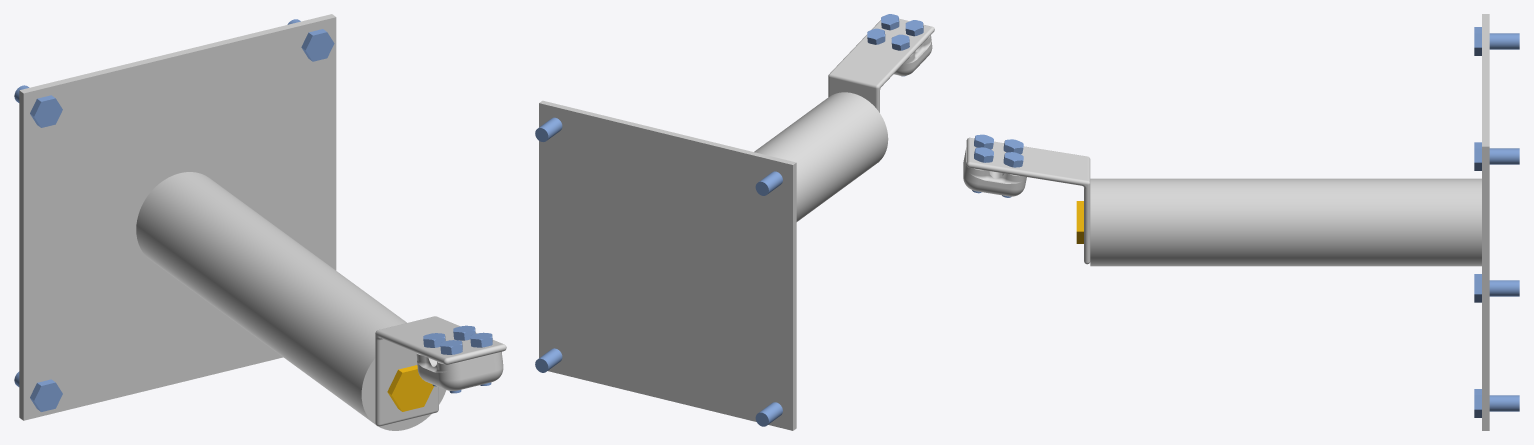
File: P_Galva_Rigide.glb
3 renders of one model, left to right at view 1: azimuth 30°, elevation 25°; view 2: azimuth 150°, elevation 25°; view 3: azimuth 270°, elevation 25°, orthographic. The views are drawn at different scales.
Visible parts, largest first — view 1: tube, INOX_LightPro, boulon (×4), 20220216_MAC_I, grande_rondelle; view 2: tube, INOX_LightPro, boulon (×4), grande_rondelle, 20220216_MAC_I; view 3: tube, INOX_LightPro, boulon (×4), grande_rondelle, 20220216_MAC_I.
Part boxes in pixels (left/top/right/bottom): tube: left=19, top=14, right=406, bottom=420; INOX_LightPro: left=375, top=316, right=506, bottom=426; boulon (×4): left=14, top=19, right=433, bottom=411; 20220216_MAC_I: left=416, top=351, right=503, bottom=390; grande_rondelle: left=353, top=343, right=446, bottom=430; tube: left=539, top=97, right=881, bottom=430; INOX_LightPro: left=828, top=18, right=934, bottom=162; boulon (×4): left=535, top=117, right=782, bottom=426; grande_rondelle: left=824, top=92, right=888, bottom=165; 20220216_MAC_I: left=894, top=35, right=932, bottom=75; tube: left=1105, top=14, right=1489, bottom=430; INOX_LightPro: left=966, top=137, right=1090, bottom=264; boulon (×4): left=1474, top=27, right=1519, bottom=417; grande_rondelle: left=1090, top=178, right=1105, bottom=266; 20220216_MAC_I: left=963, top=147, right=1026, bottom=196.
Bounding box in the file's own units: 0.25 × 0.25 × 0.4432.
